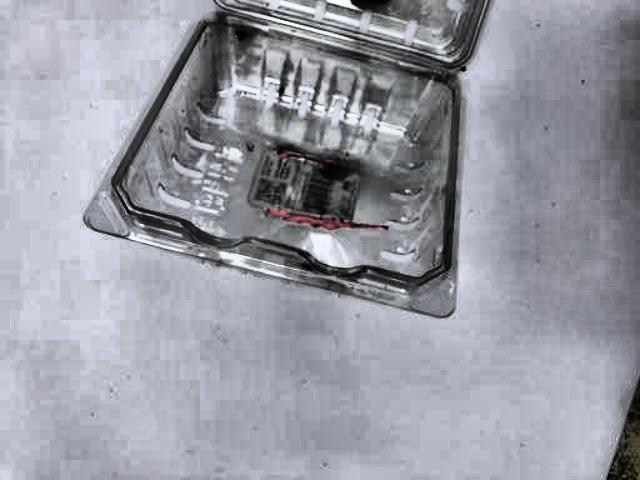Plastic: (78, 0, 508, 335)
